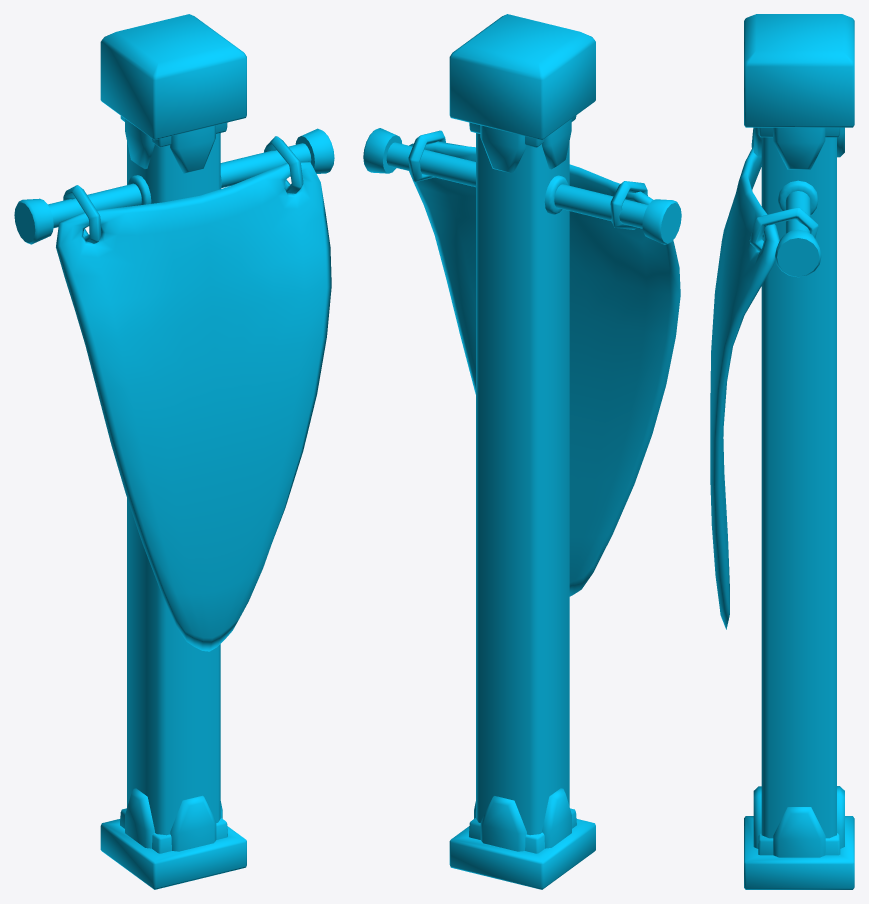
The model's file is PillarBanner.FBX.
The picture shows the model from 3 angles, left to right: view 1: azimuth 30°, elevation 25°; view 2: azimuth 150°, elevation 25°; view 3: azimuth 270°, elevation 25°; orthographic projection.
Parts seen in each view (by area): view 1: PillarBanner; view 2: PillarBanner; view 3: PillarBanner.
Part boxes in pixels (x1,y1,x2,y2): PillarBanner: [14, 14, 334, 889]; PillarBanner: [363, 14, 681, 889]; PillarBanner: [710, 14, 854, 889].
Bounding box in the file's own units: 1.4 × 3.67 × 0.5756.
